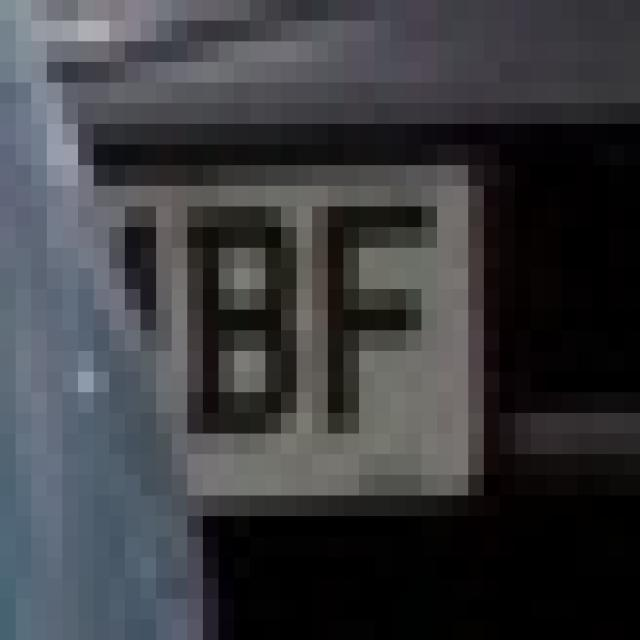licenseplate: (58, 107, 528, 541)
